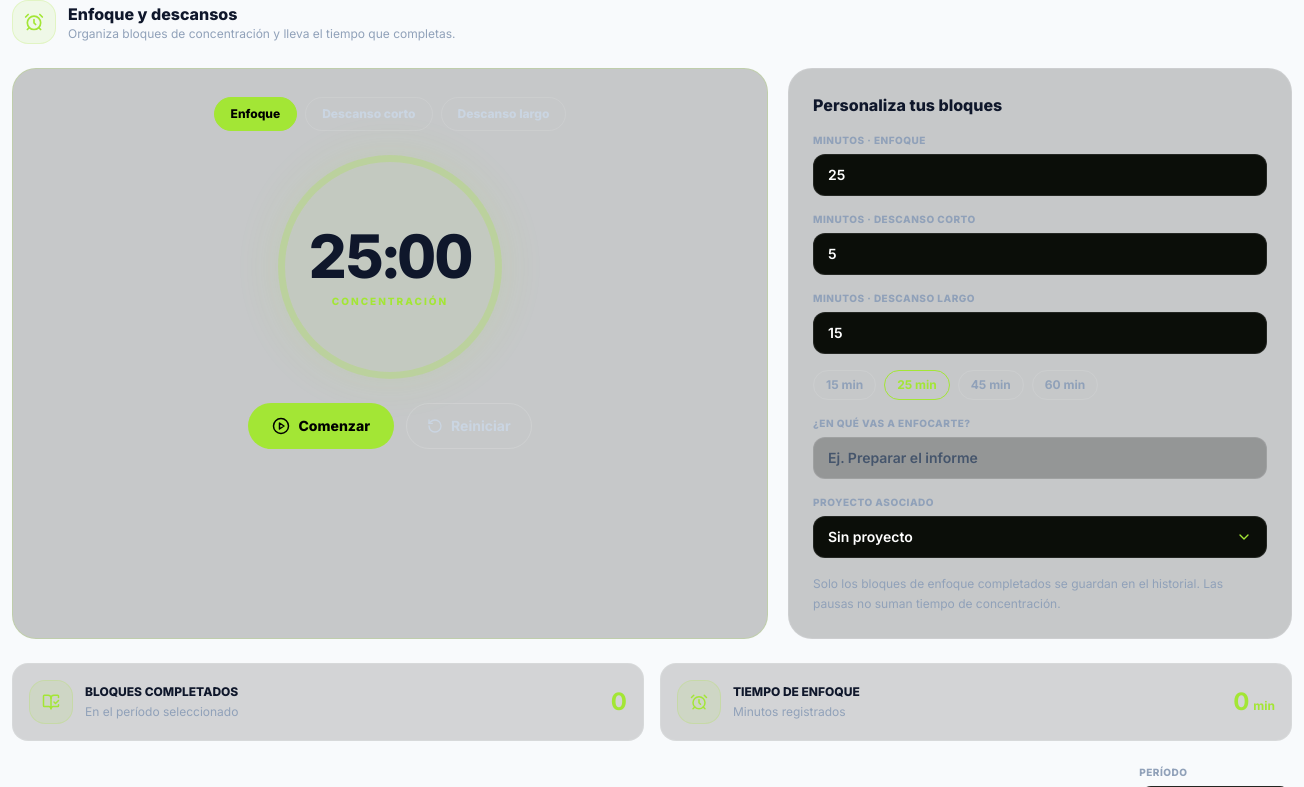
Test: herramienta de enfoque › conserva una sesión pendiente y ofrece reintentar si falla la base de datos
Replace the text in the number field labelled "Minutos · Enfoque" with "1" at [1040, 175], box [813,154,1267,196]
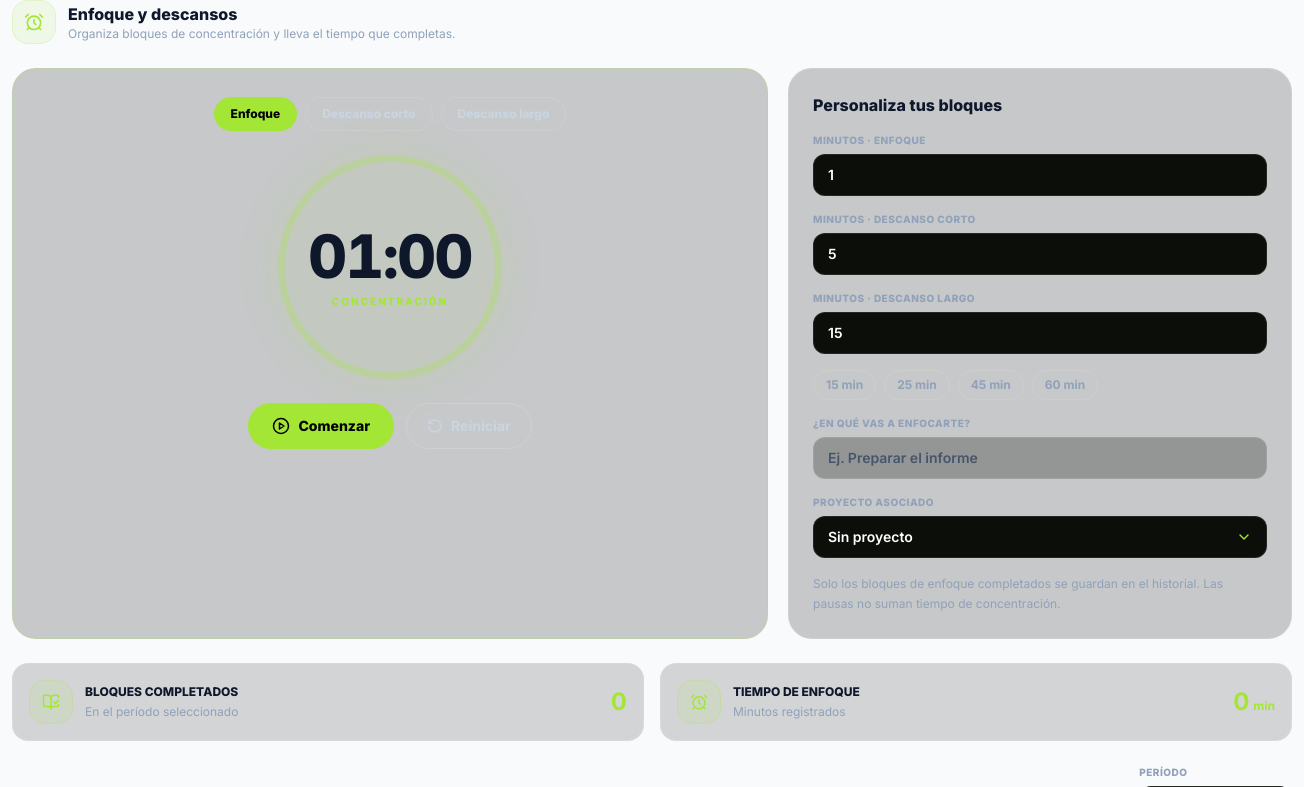
Click the button "Comenzar" at [321, 426], box [248,403,394,449]
Wait 60000 ms
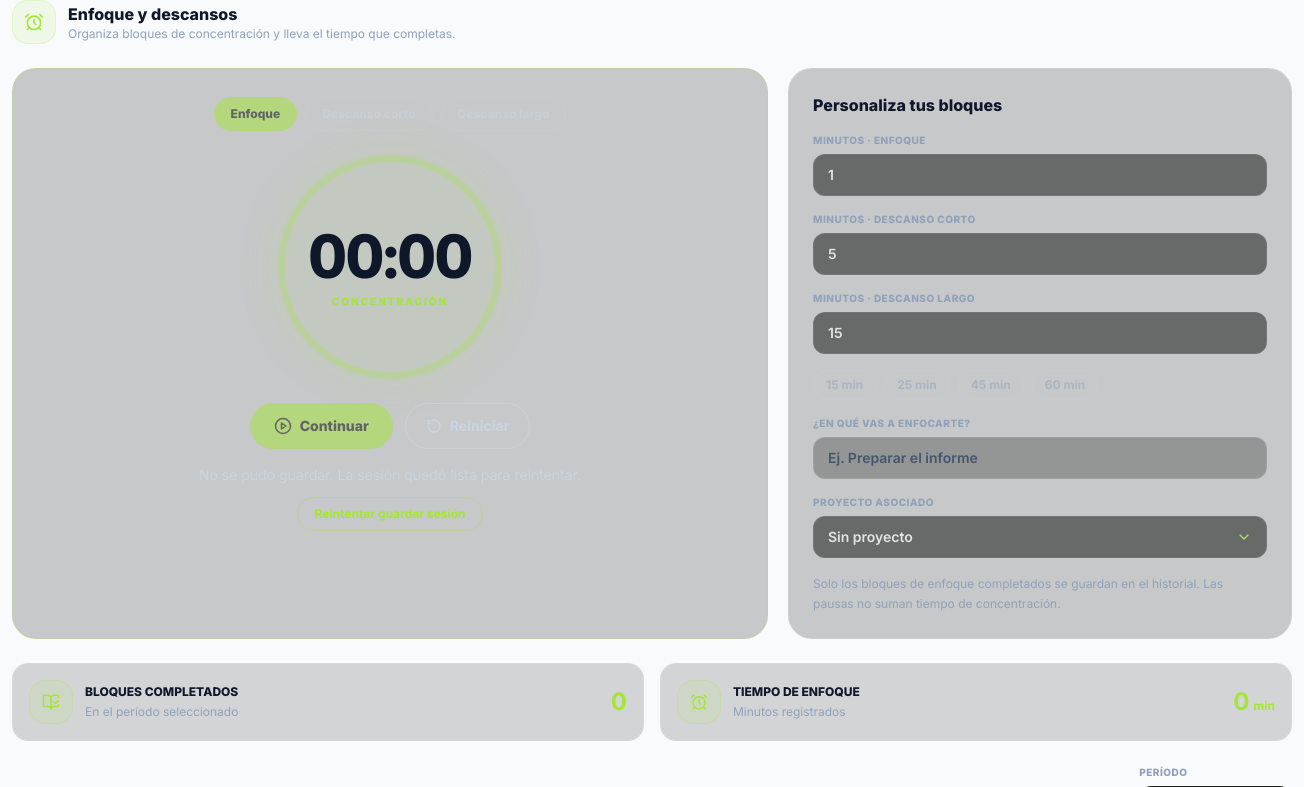
Expected: the button "Reintentar guardar sesión" is shown
Click the button "Reintentar guardar sesión" at [390, 514], box [297,497,483,531]
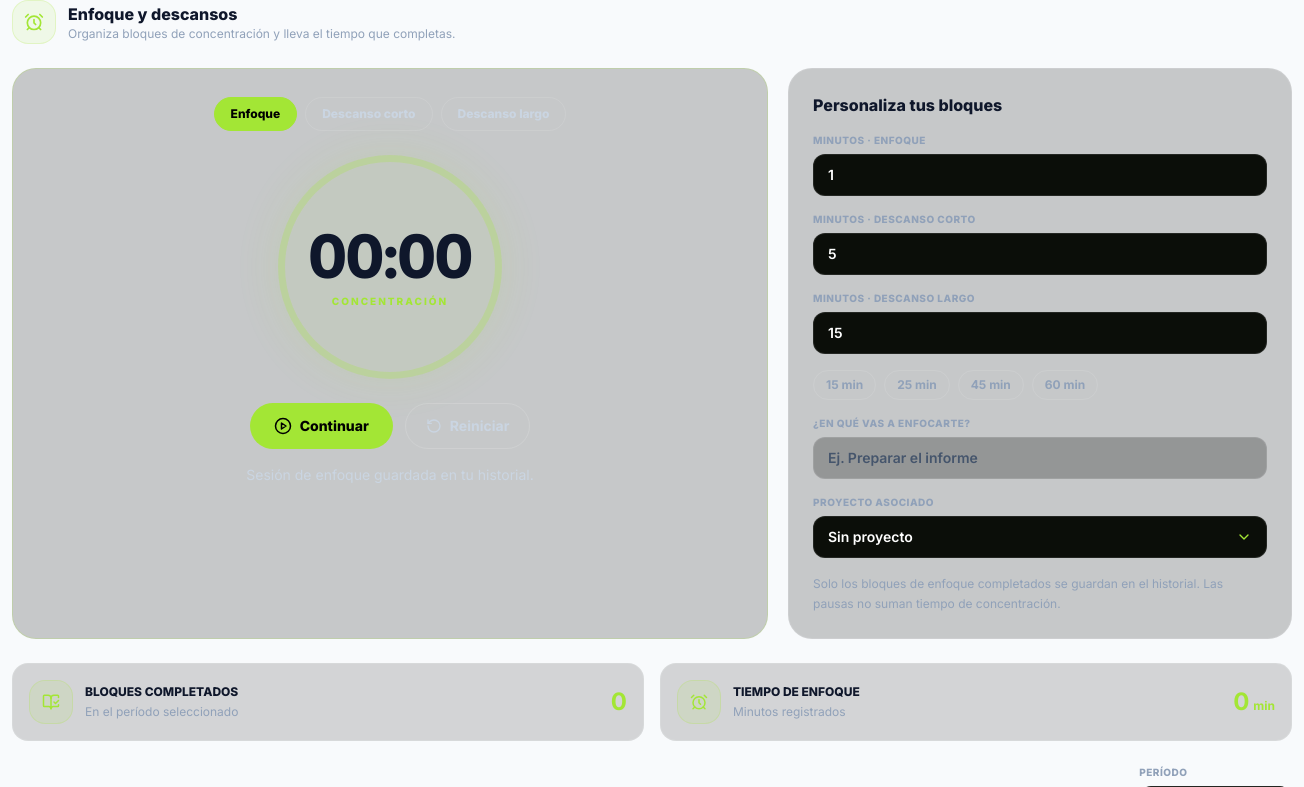
Expected: the button "Reintentar guardar sesión" is gone
